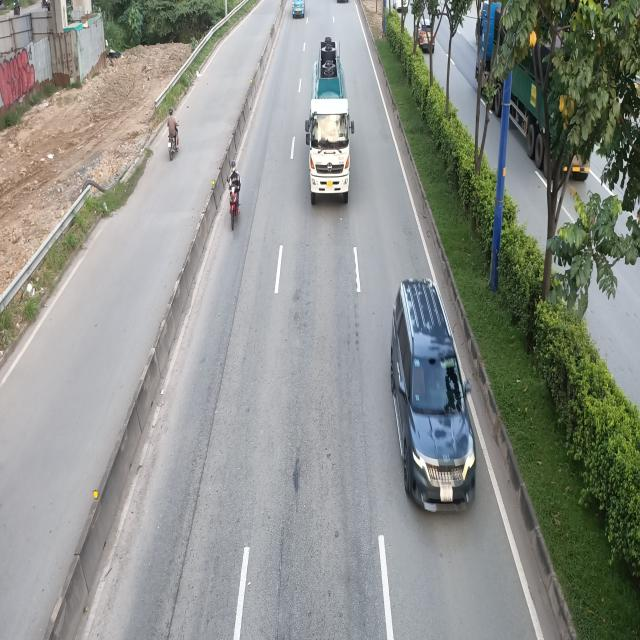car: (391, 282, 477, 521)
container: (304, 34, 355, 208)
